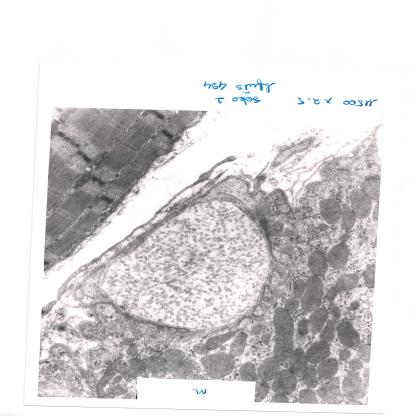mitochondria: (324, 273, 359, 320), (272, 308, 296, 361), (298, 275, 324, 312), (199, 354, 236, 380), (341, 371, 366, 401), (348, 188, 372, 219), (317, 378, 344, 404), (204, 332, 242, 350), (336, 322, 362, 348), (270, 369, 296, 395), (256, 356, 281, 383), (98, 362, 121, 391), (308, 308, 331, 336), (327, 241, 348, 271), (318, 199, 341, 225), (289, 348, 309, 377), (306, 340, 330, 364), (163, 349, 186, 374), (308, 250, 329, 277), (230, 330, 249, 358), (146, 354, 168, 378), (172, 361, 200, 379), (359, 178, 379, 203), (316, 358, 339, 378), (301, 366, 320, 389), (127, 358, 148, 378), (341, 204, 356, 229), (319, 320, 336, 342), (238, 363, 258, 381), (297, 389, 319, 404), (291, 278, 306, 299), (255, 382, 270, 402), (117, 364, 134, 381), (362, 264, 374, 288), (356, 343, 370, 363), (282, 298, 300, 312), (296, 318, 310, 335), (192, 343, 210, 355), (106, 386, 127, 396), (349, 358, 364, 371), (268, 395, 290, 403), (339, 349, 352, 362), (259, 333, 272, 345), (251, 324, 264, 335), (126, 344, 139, 355), (317, 222, 330, 232), (113, 377, 124, 383)
